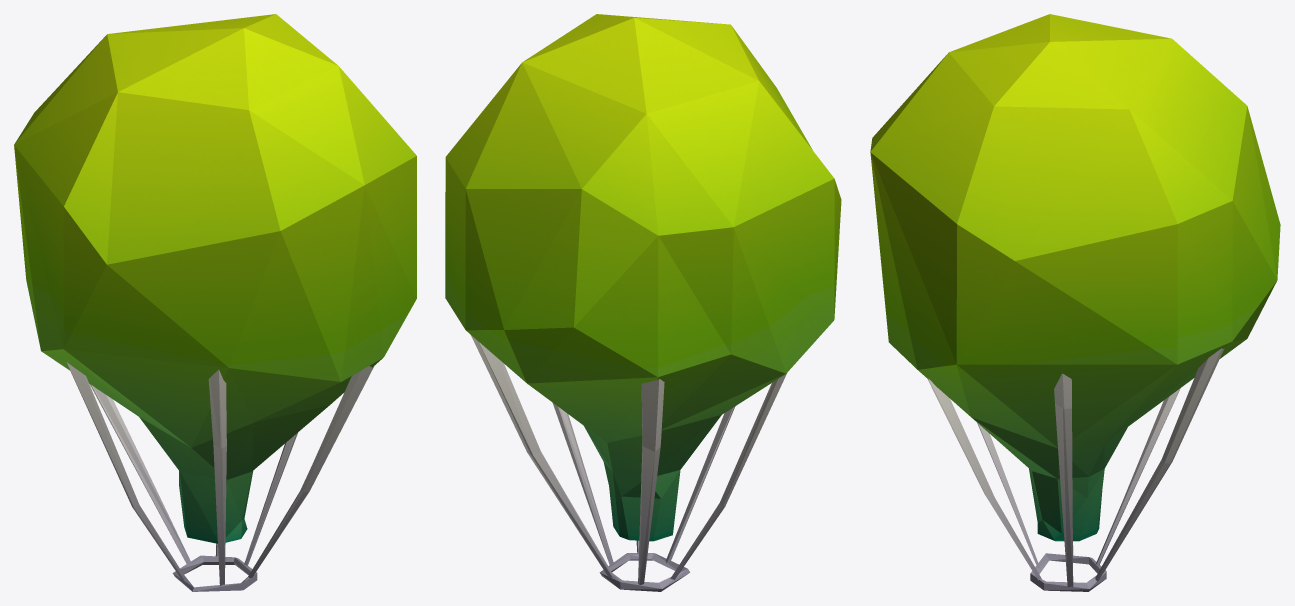
File: balloon.FBX
3 views of the same model, side by side, from view 1: azimuth 30°, elevation 25°; view 2: azimuth 150°, elevation 25°; view 3: azimuth 270°, elevation 25° (orthographic).
Parts seen in each view (by area): view 1: balloon, balloonRopes; view 2: balloon, balloonRopes; view 3: balloon, balloonRopes.
Boxes of the visible parts, box(x1,y1,x2,y2) form: balloon: box(14, 14, 416, 543); balloonRopes: box(66, 362, 374, 591); balloon: box(445, 14, 841, 541); balloonRopes: box(470, 334, 787, 591); balloon: box(870, 14, 1280, 541); balloonRopes: box(927, 348, 1224, 591).
Bounding box in the file's own units: 8.21 × 12.81 × 8.76.
Materials: 2 (2 with a texture image).
